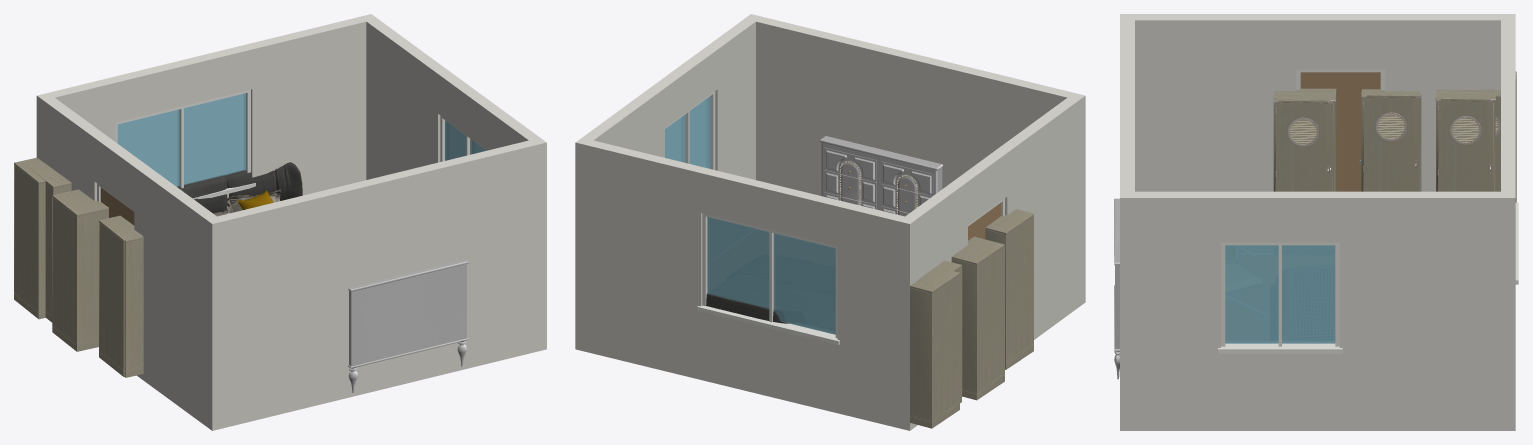
File: diffuscene.glb
3 renders of one model, left to right at view 1: azimuth 30°, elevation 25°; view 2: azimuth 150°, elevation 25°; view 3: azimuth 270°, elevation 25°, orthographic. The views are drawn at different scales.
Parts seen in each view (by area): view 1: wall|scenesmith_024__R00|0, wall|scenesmith_024__R00|1, wall|scenesmith_024__R00|2, raw_model.001, wall|scenesmith_024__R00|3, raw_model.007, wall|scenesmith_024__R00|1 Window 0 | glazing, raw_model.004, wall|scenesmith_024__R00|1 Window 0 | jamb, wall|scenesmith_024__R00|3 Window 0 | glazing, wall|scenesmith_024__R00|2 Door 0 | wood leaf; view 2: wall|scenesmith_024__R00|1, wall|scenesmith_024__R00|0, raw_model.001, wall|scenesmith_024__R00|2, wall|scenesmith_024__R00|3, wall|scenesmith_024__R00|1 Window 0 | glazing, raw_model.007, wall|scenesmith_024__R00|1 Window 0 | jamb, wall|scenesmith_024__R00|3 Window 0 | glazing, raw_model.004, wall|scenesmith_024__R00|3 Window 0 | jamb, wall|scenesmith_024__R00|2 Door 0 | wood leaf; view 3: wall|scenesmith_024__R00|3, wall|scenesmith_024__R00|2, raw_model.001, wall|scenesmith_024__R00|3 Window 0 | glazing, wall|scenesmith_024__R00|2 Door 0 | wood leaf, wall|scenesmith_024__R00|3 Window 0 | jamb, wall|scenesmith_024__R00|0, wall|scenesmith_024__R00|1, raw_model.007, wall|scenesmith_024__R00|2 Door 0 | jamb.
Part boxes in pixels (x1=…): wall|scenesmith_024__R00|0: x1=205, y1=138, x2=546, y2=430; wall|scenesmith_024__R00|1: x1=36, y1=14, x2=377, y2=213; wall|scenesmith_024__R00|2: x1=37, y1=93, x2=223, y2=427; raw_model.001: x1=14, y1=157, x2=143, y2=377; wall|scenesmith_024__R00|3: x1=366, y1=19, x2=546, y2=276; raw_model.007: x1=348, y1=259, x2=468, y2=392; wall|scenesmith_024__R00|1 Window 0 | glazing: x1=117, y1=93, x2=245, y2=186; raw_model.004: x1=177, y1=162, x2=302, y2=216; wall|scenesmith_024__R00|1 Window 0 | jamb: x1=115, y1=89, x2=255, y2=199; wall|scenesmith_024__R00|3 Window 0 | glazing: x1=445, y1=120, x2=486, y2=160; wall|scenesmith_024__R00|2 Door 0 | wood leaf: x1=100, y1=188, x2=134, y2=225; wall|scenesmith_024__R00|1: x1=575, y1=137, x2=916, y2=430; wall|scenesmith_024__R00|0: x1=744, y1=14, x2=1085, y2=306; raw_model.001: x1=910, y1=209, x2=1033, y2=428; wall|scenesmith_024__R00|2: x1=899, y1=93, x2=1084, y2=425; wall|scenesmith_024__R00|3: x1=582, y1=19, x2=755, y2=179; wall|scenesmith_024__R00|1 Window 0 | glazing: x1=707, y1=217, x2=835, y2=334; raw_model.007: x1=819, y1=136, x2=942, y2=216; wall|scenesmith_024__R00|1 Window 0 | jamb: x1=697, y1=213, x2=839, y2=344; wall|scenesmith_024__R00|3 Window 0 | glazing: x1=665, y1=96, x2=710, y2=168; raw_model.004: x1=706, y1=293, x2=788, y2=323; wall|scenesmith_024__R00|3 Window 0 | jamb: x1=665, y1=91, x2=715, y2=169; wall|scenesmith_024__R00|2 Door 0 | wood leaf: x1=968, y1=202, x2=1001, y2=240; wall|scenesmith_024__R00|3: x1=1120, y1=191, x2=1515, y2=430; wall|scenesmith_024__R00|2: x1=1120, y1=14, x2=1515, y2=191; raw_model.001: x1=1273, y1=71, x2=1516, y2=202; wall|scenesmith_024__R00|3 Window 0 | glazing: x1=1225, y1=245, x2=1335, y2=343; wall|scenesmith_024__R00|2 Door 0 | wood leaf: x1=1300, y1=72, x2=1380, y2=191; wall|scenesmith_024__R00|3 Window 0 | jamb: x1=1218, y1=242, x2=1342, y2=353; wall|scenesmith_024__R00|0: x1=1120, y1=20, x2=1134, y2=197; wall|scenesmith_024__R00|1: x1=1501, y1=20, x2=1515, y2=197; raw_model.007: x1=1114, y1=198, x2=1119, y2=379; wall|scenesmith_024__R00|2 Door 0 | jamb: x1=1296, y1=69, x2=1385, y2=90.
Size of the model in its own units: 4.79 by 2.61 by 4.09.
Materials: 11 (5 with a texture image).
